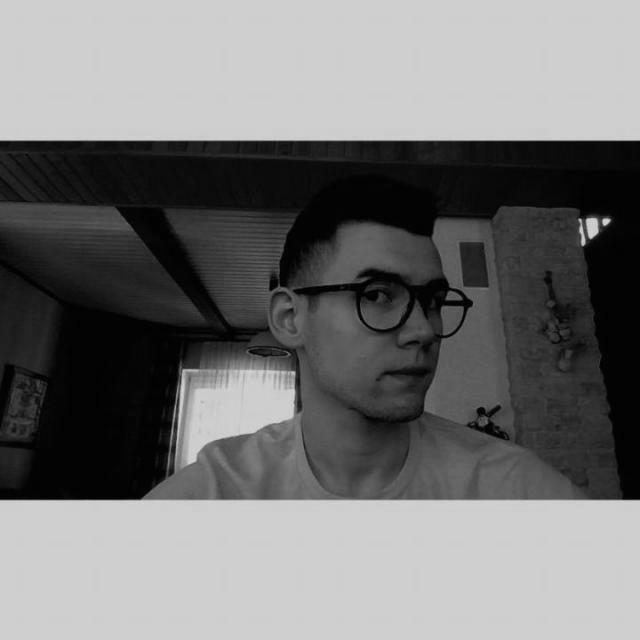real: (322, 236, 444, 418)
